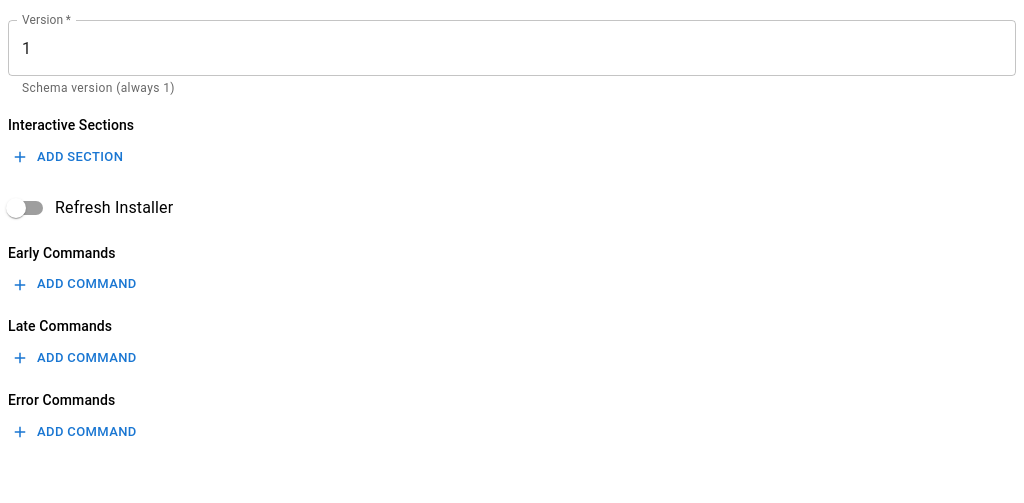
Test: SystemSection › adds interactive section entry on click
This screenshot has width=1024, height=503.
Click the button with test id "add-interactive-section".
click(68, 157)  # box x1=8 y1=142 x2=128 y2=173
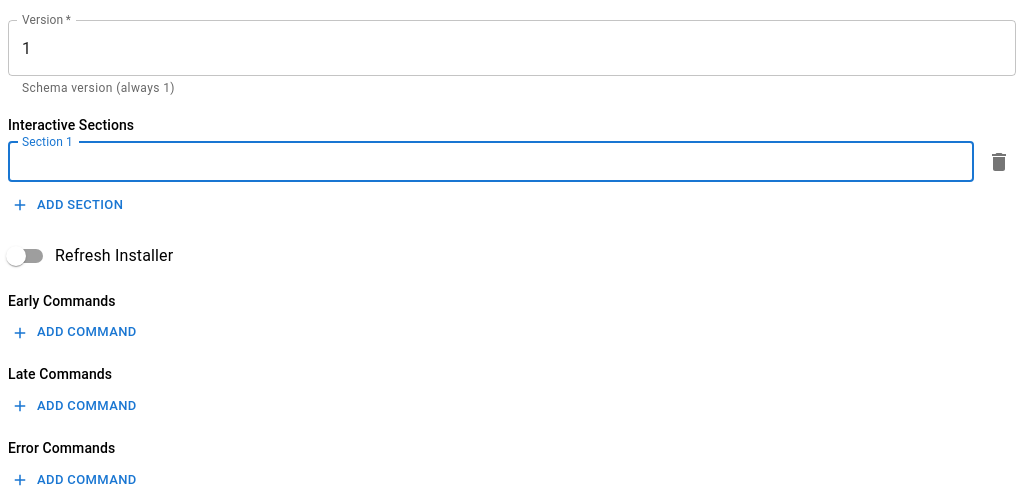
Check: the field labelled "Section 1" is shown, box x1=8 y1=142 x2=974 y2=182
